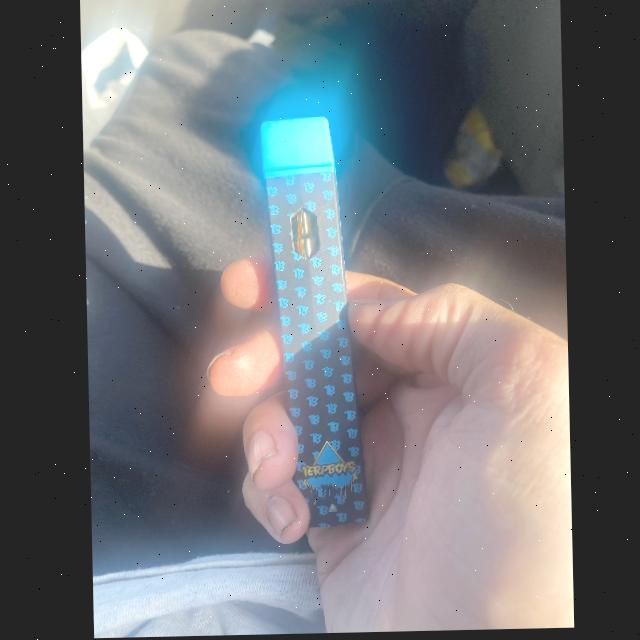vape: (257, 116, 375, 527)
